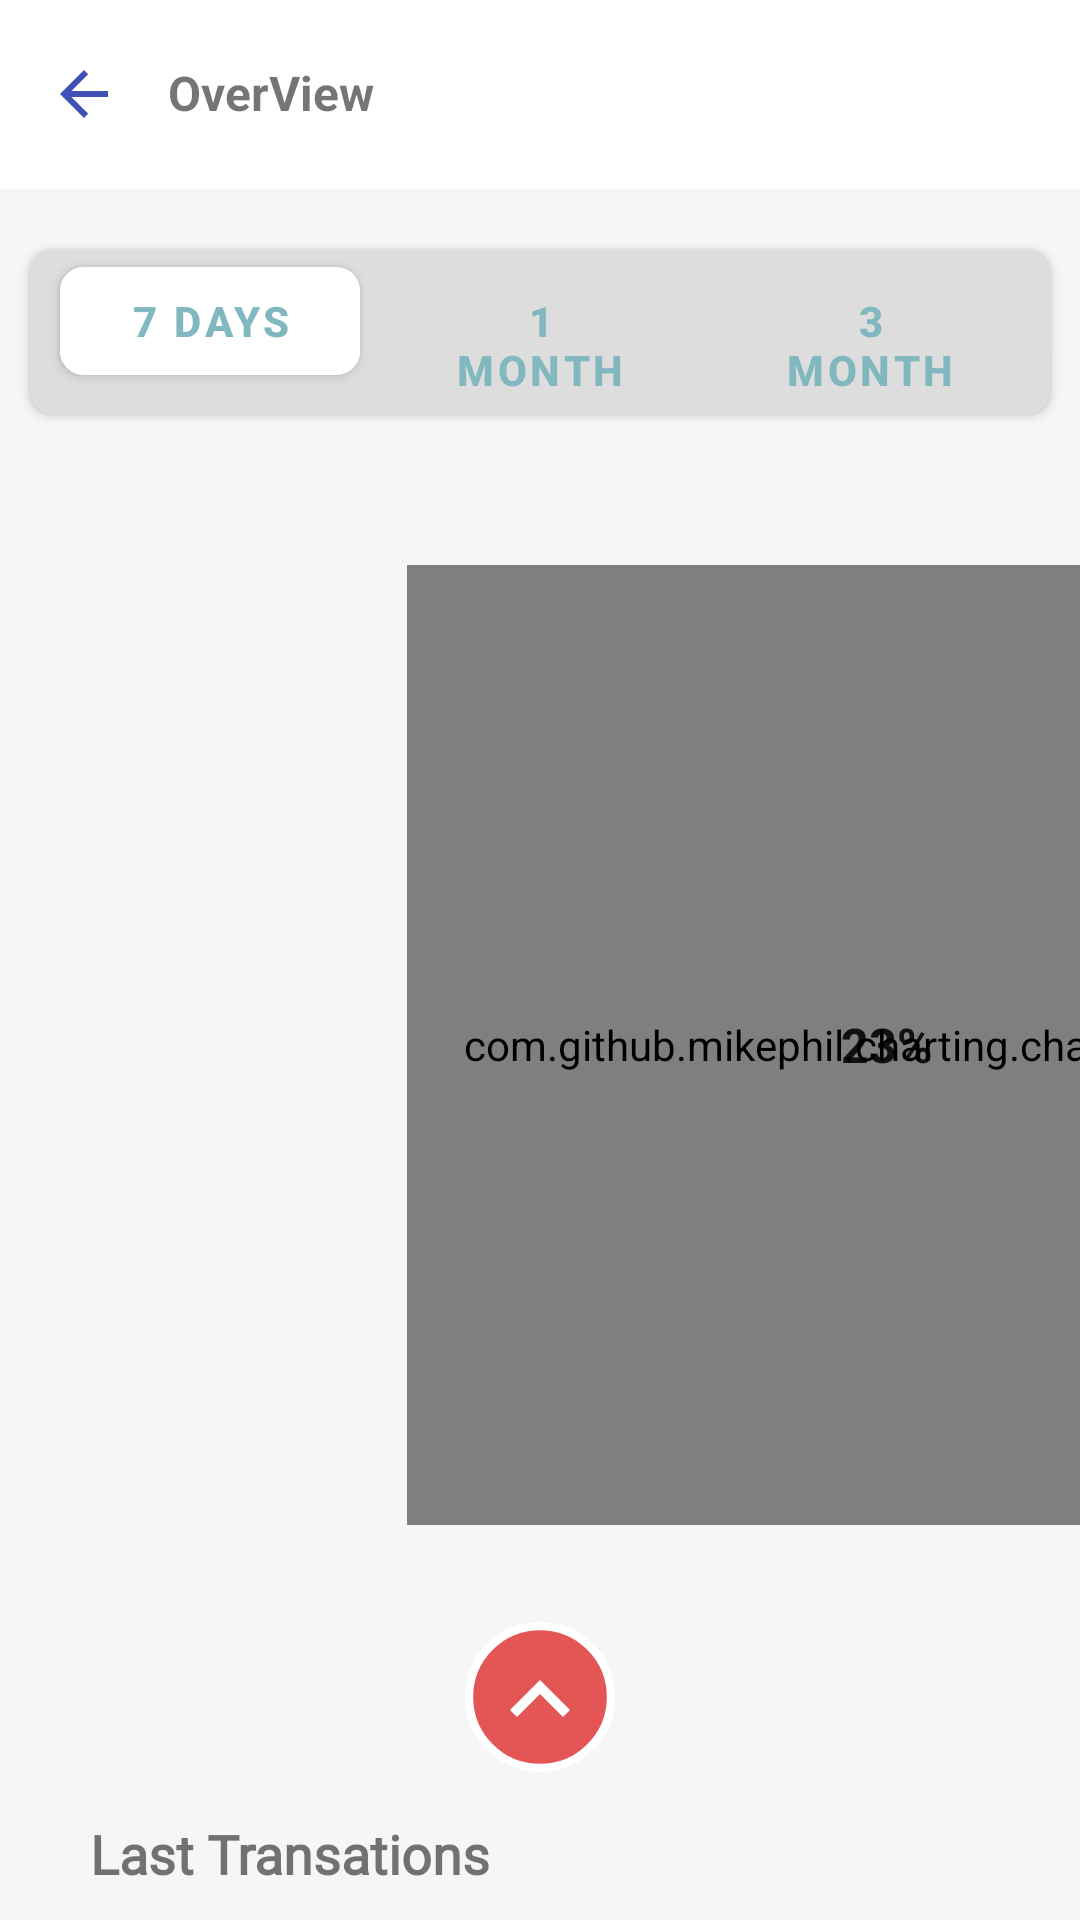

Icon click points for this 1080px x 1920px phone screenshot, format (x,y):
back: (84,94)
chevron up: (540,1697)
